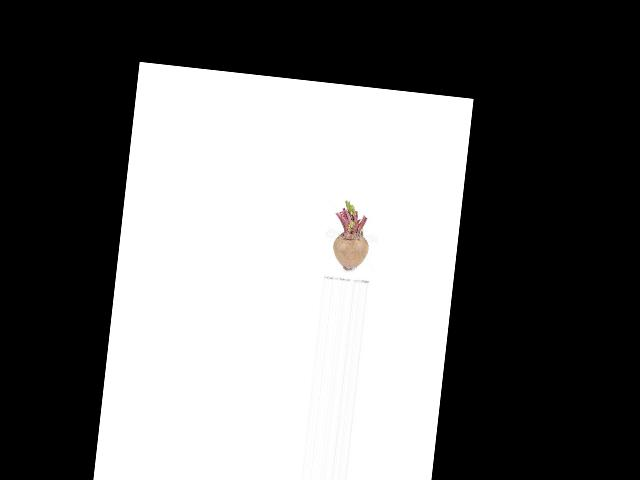beet: (330, 199, 374, 272)
